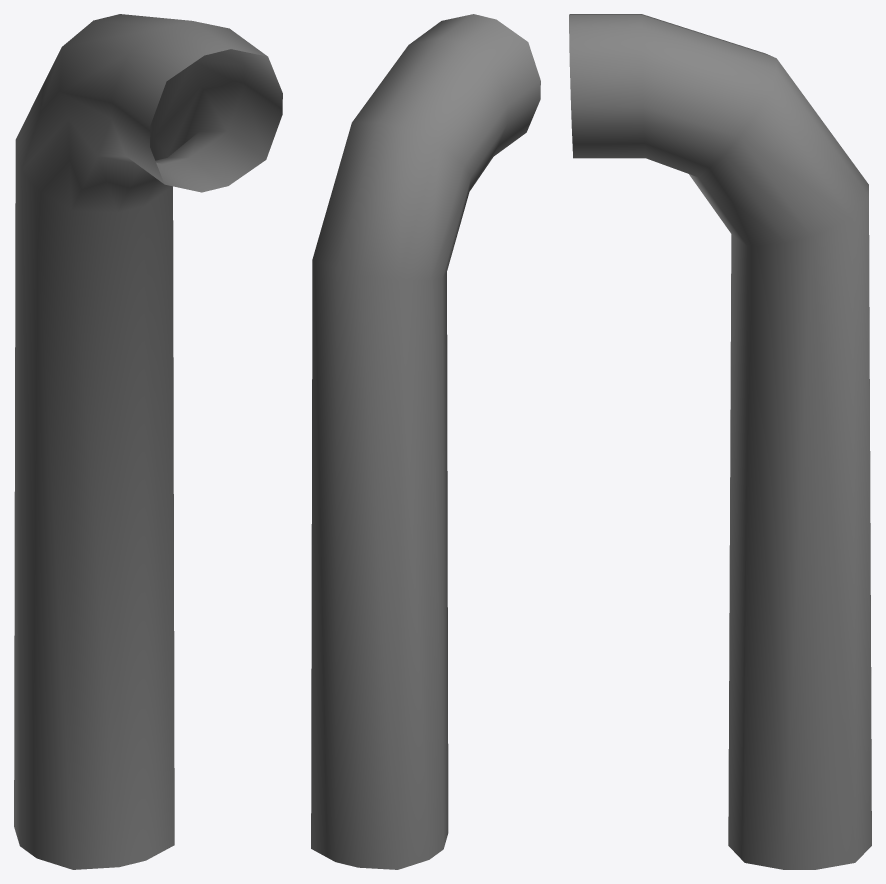
Rendered from Boiler pipe.fbx.
3 renders of one model, left to right at view 1: azimuth 30°, elevation 25°; view 2: azimuth 150°, elevation 25°; view 3: azimuth 270°, elevation 25°, orthographic. The views are drawn at different scales.
Parts seen in each view (by area): view 1: Boiler pipe; view 2: Boiler pipe; view 3: Boiler pipe.
Boxes of the visible parts, x1,y1,x2,y2 form: Boiler pipe: (14,14,282,869); Boiler pipe: (311,14,540,869); Boiler pipe: (569,14,871,869).
Size of the model in its own units: 61.83 by 389 by 131.
